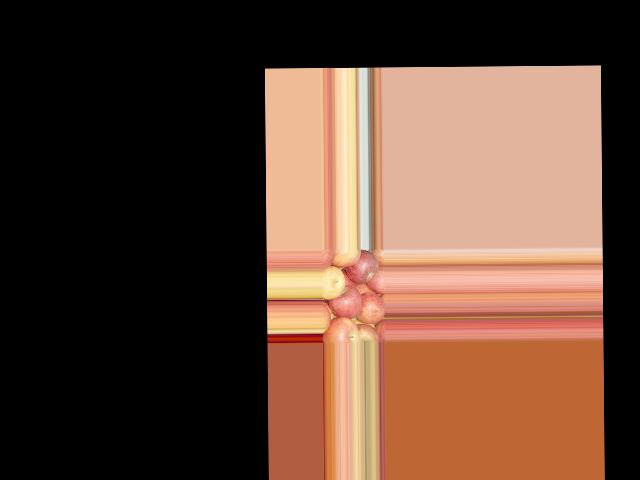apple: (355, 290, 383, 325)
